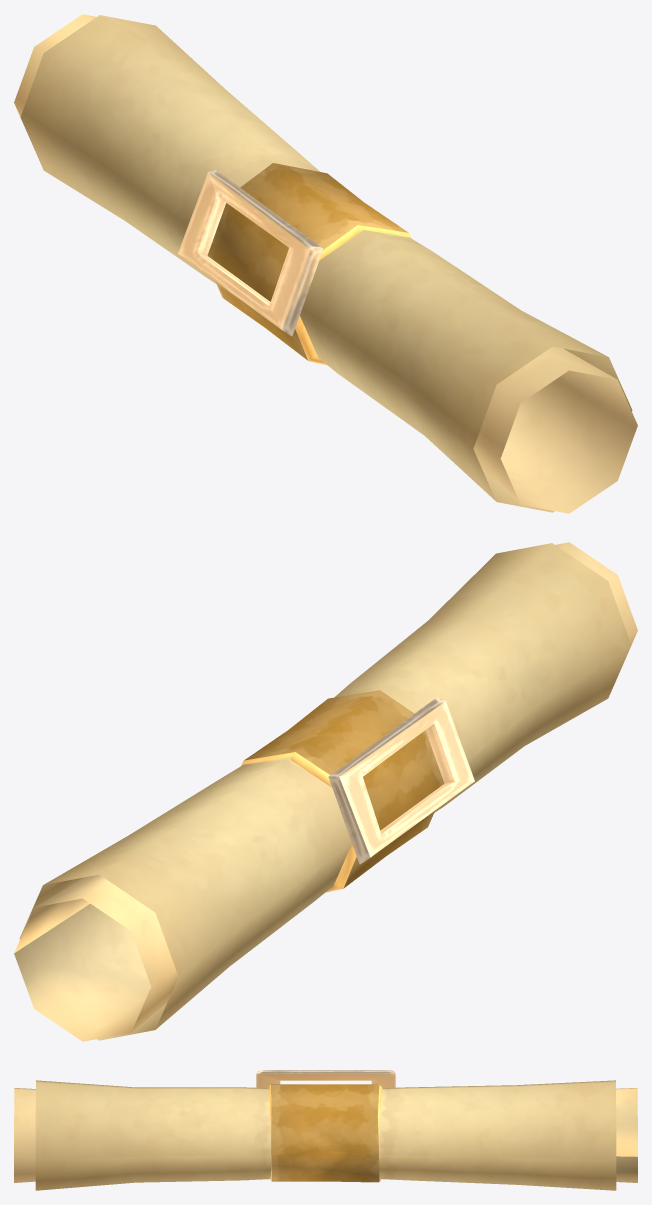
The model's file is SM_Stylized_Parchment_Var03.fbx.
3 views of the same model, one above another, from view 1: azimuth 30°, elevation 25°; view 2: azimuth 150°, elevation 25°; view 3: azimuth 270°, elevation 25° (orthographic). The views are drawn at different scales.
Visible parts, largest first — view 1: SM_Stylized_Parchment_Var03_LOD0; view 2: SM_Stylized_Parchment_Var03_LOD0; view 3: SM_Stylized_Parchment_Var03_LOD0.
Part boxes in pixels (x1,y1,x2,y2): SM_Stylized_Parchment_Var03_LOD0: [14, 14, 637, 513]; SM_Stylized_Parchment_Var03_LOD0: [14, 542, 637, 1041]; SM_Stylized_Parchment_Var03_LOD0: [14, 1070, 637, 1190].
Bounding box in the file's own units: 8.34 × 39.92 × 7.51.
